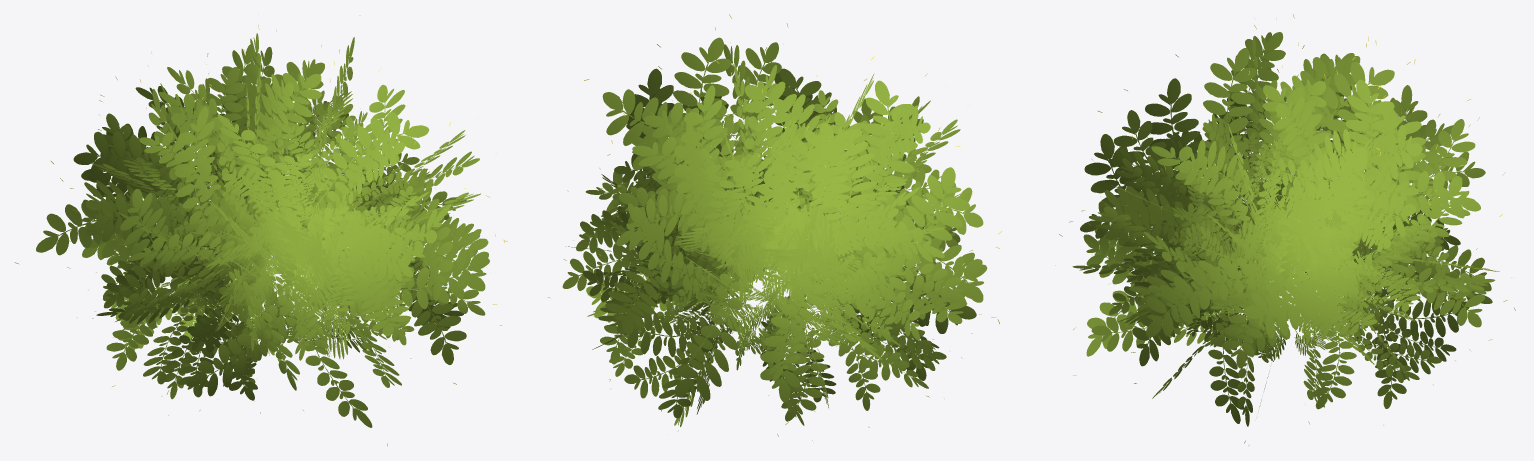
File: Bush.FBX
3 renders of one model, left to right at view 1: azimuth 30°, elevation 25°; view 2: azimuth 150°, elevation 25°; view 3: azimuth 270°, elevation 25°, orthographic. The views are drawn at different scales.
Visible parts, largest first — view 1: Bush_High; view 2: Bush_High; view 3: Bush_High.
Boxes of the visible parts, x1,y1,x2,y2 form: Bush_High: [14, 15, 507, 446]; Bush_High: [547, 14, 1001, 440]; Bush_High: [1055, 14, 1515, 445].
Size of the model in its own units: 508 by 424 by 517.
